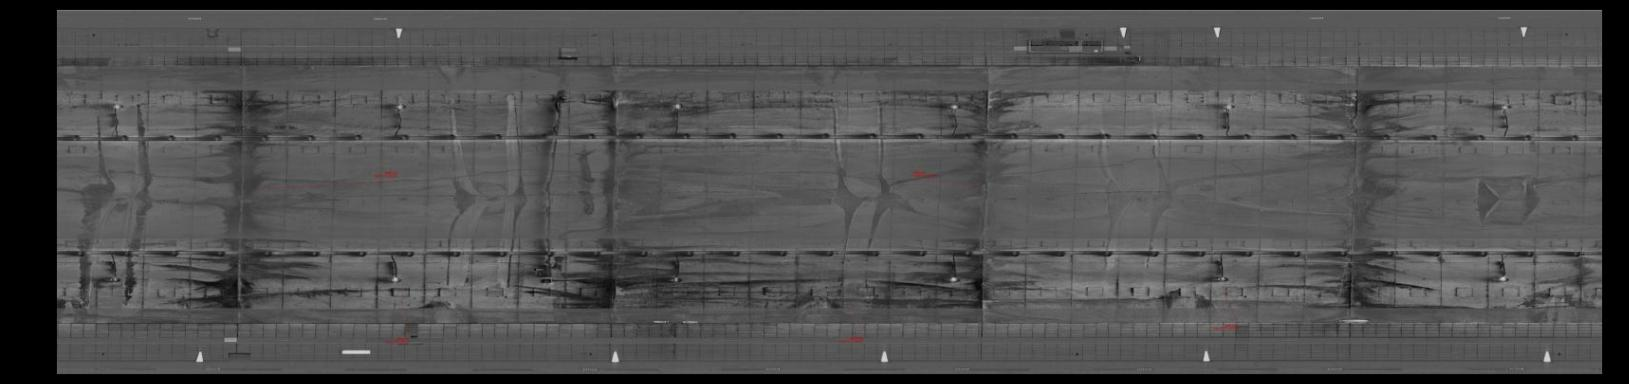light: (388, 100, 412, 114), (1493, 272, 1513, 287), (1211, 272, 1232, 285), (942, 100, 966, 111), (1494, 99, 1516, 111), (108, 99, 127, 112), (1216, 100, 1236, 111), (385, 272, 404, 284), (945, 273, 963, 285), (105, 272, 123, 284), (668, 101, 687, 112), (666, 275, 687, 284)
